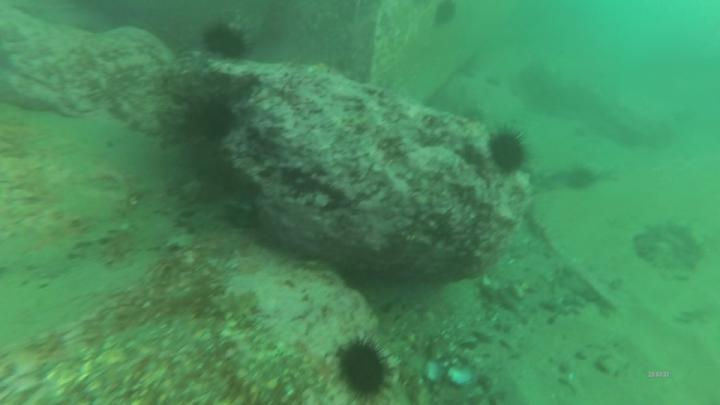echinus: (334, 329, 401, 405), (484, 122, 537, 181), (198, 20, 260, 65), (196, 97, 233, 141)
